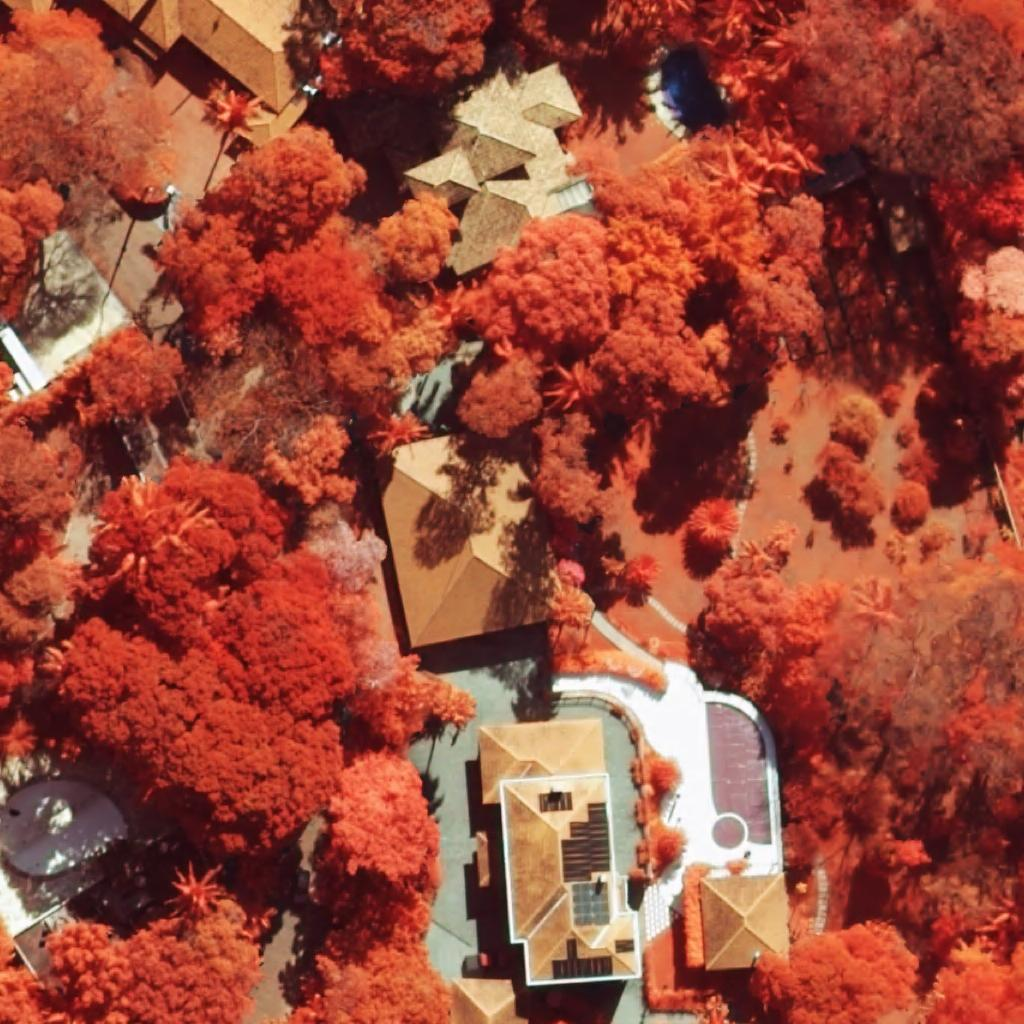pool: (660, 47, 729, 133)
